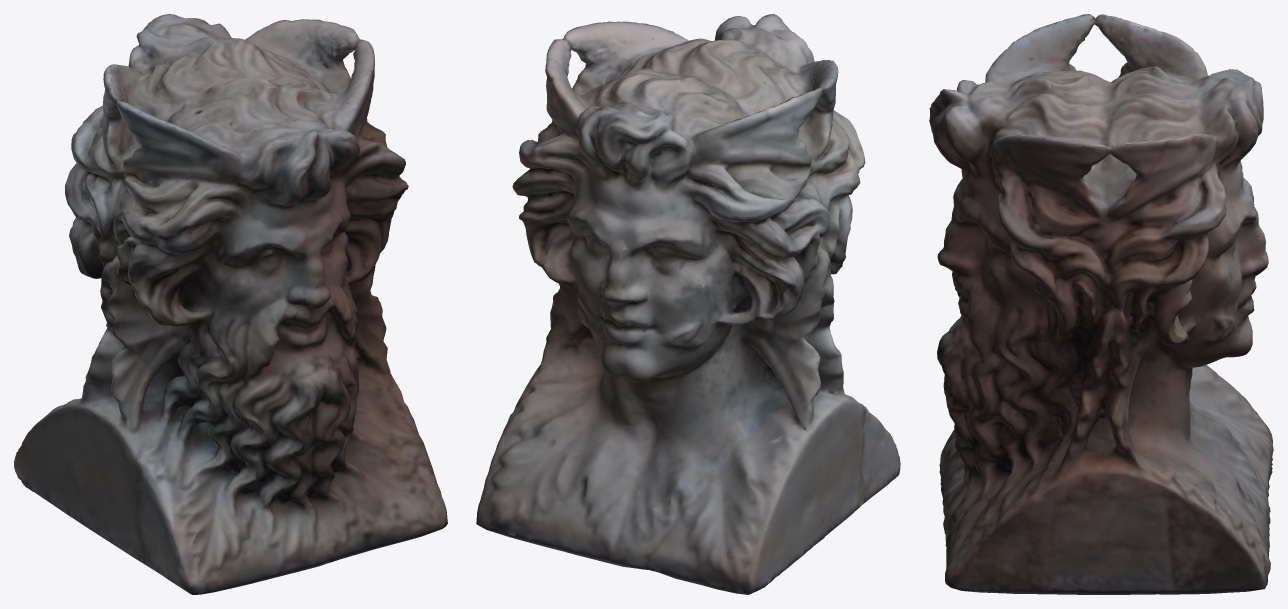
File: janus.gltf
The picture shows the model from 3 angles, left to right: view 1: azimuth 30°, elevation 25°; view 2: azimuth 150°, elevation 25°; view 3: azimuth 270°, elevation 25°; orthographic projection.
Parts seen in each view (by area): view 1: janus; view 2: janus; view 3: janus.
Boxes of the visible parts, x1,y1,x2,y2 form: janus: [14, 14, 447, 594]; janus: [476, 14, 900, 594]; janus: [929, 14, 1273, 594].
Size of the model in its own units: 5.72 by 8.67 by 5.94.
1 material, 1 textured.
